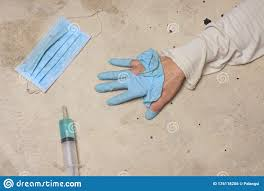defected: (100, 55, 189, 131)
